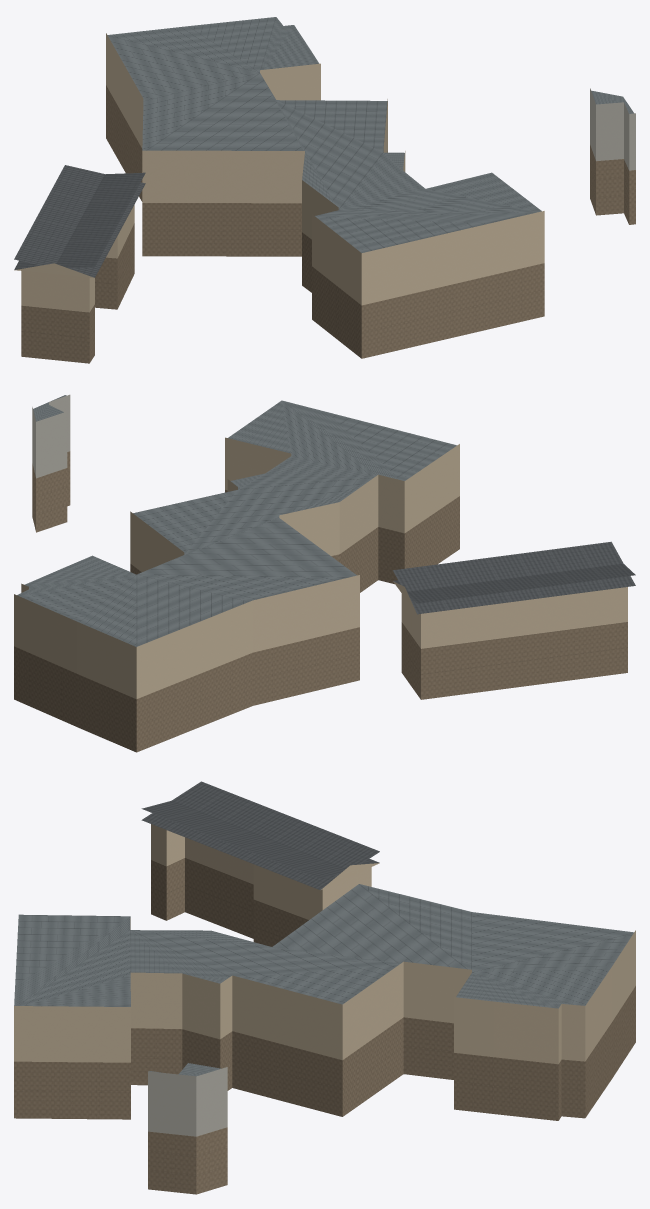
Rendered from bld_c9_41_504.gltf.
The picture shows the model from 3 angles, top to bottom: view 1: azimuth 30°, elevation 25°; view 2: azimuth 150°, elevation 25°; view 3: azimuth 270°, elevation 25°; orthographic projection. The views are drawn at different scales.
Visible parts, largest first — view 1: bld_c9_41_504; view 2: bld_c9_41_504; view 3: bld_c9_41_504.
Boxes of the visible parts, bbox=[...] form: bld_c9_41_504: bbox=[14, 17, 635, 363]; bld_c9_41_504: bbox=[14, 394, 635, 752]; bld_c9_41_504: bbox=[14, 781, 635, 1194].
Size of the model in its own units: 59.37 by 11.18 by 49.51.
7 materials, 7 textured.
